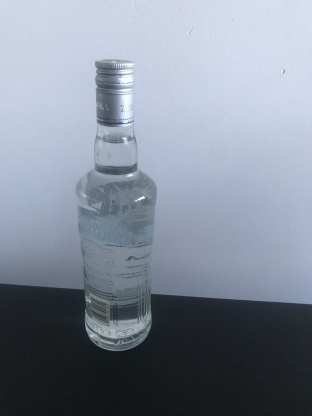nakretka: (93, 56, 136, 128)
